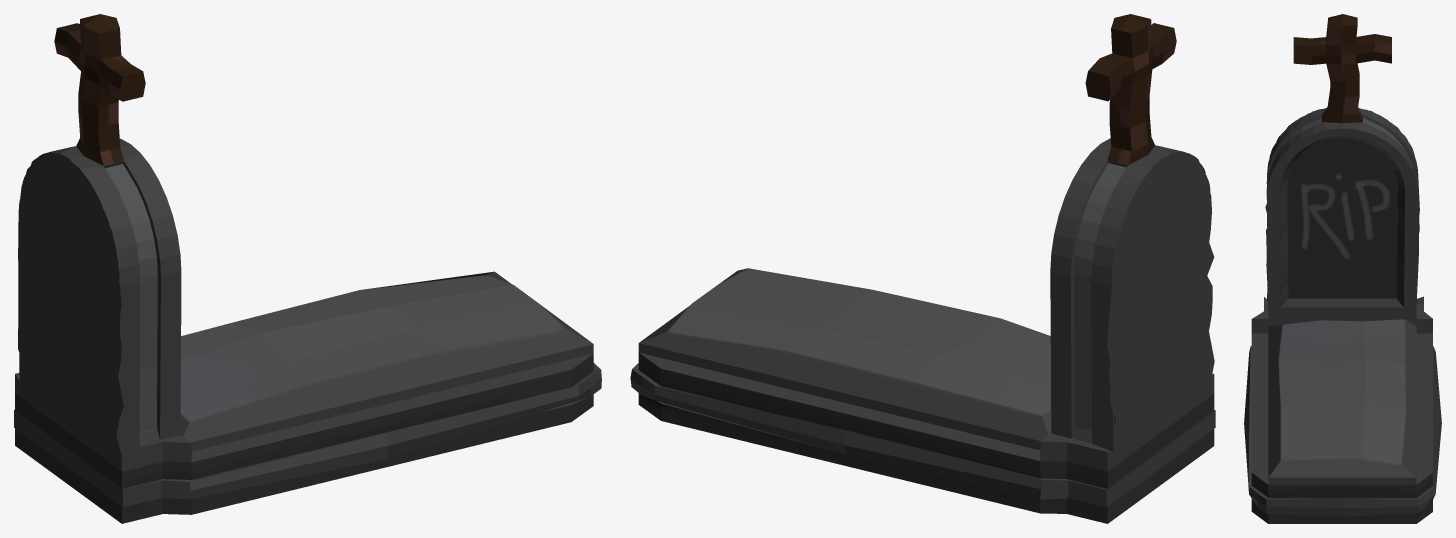
The model's file is grafsteen.fbx.
3 renders of one model, left to right at view 1: azimuth 30°, elevation 25°; view 2: azimuth 150°, elevation 25°; view 3: azimuth 270°, elevation 25°, orthographic. The views are drawn at different scales.
Visible parts, largest first — view 1: Cylinder; view 2: Cylinder; view 3: Cylinder.
Boxes of the visible parts, box(x1,y1,x2,y2) form: Cylinder: box(14, 14, 601, 523); Cylinder: box(630, 14, 1215, 523); Cylinder: box(1244, 14, 1441, 523).
Bounding box in the file's own units: 560 × 506 × 262.
